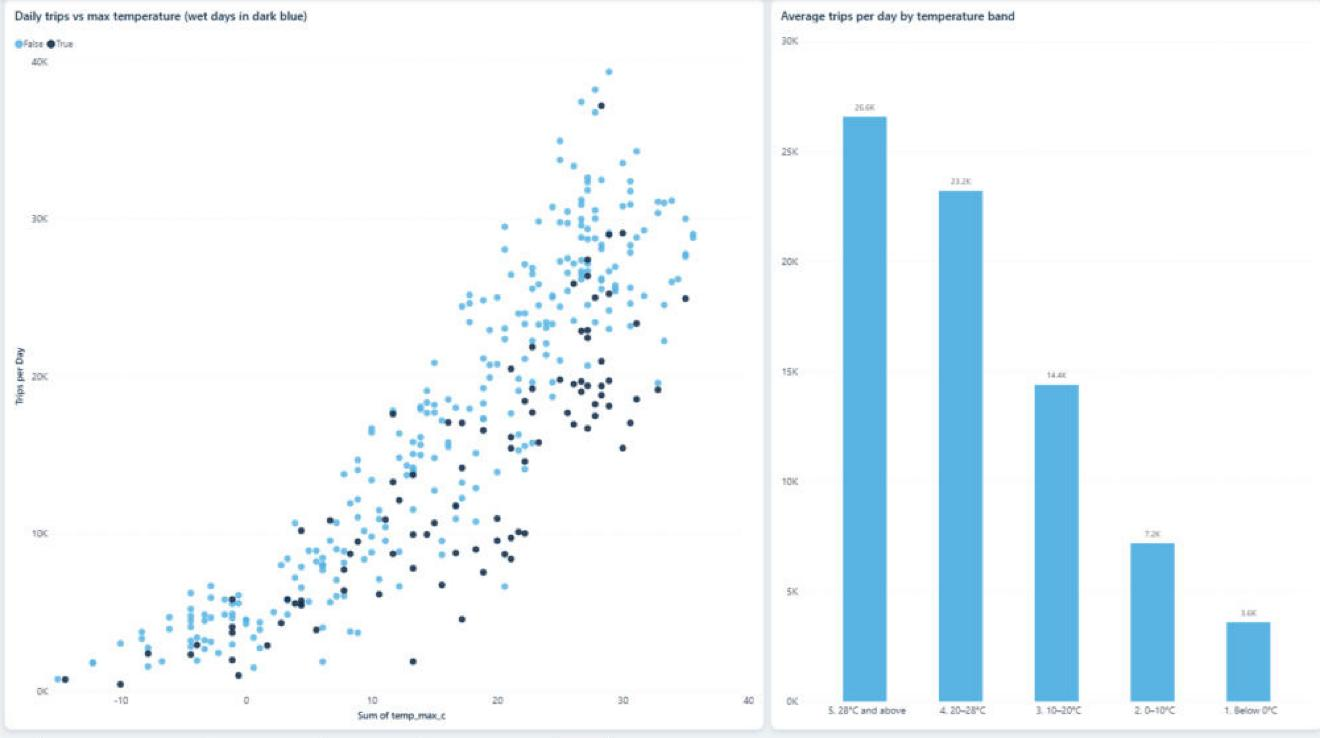

The dashboard page shown, as its layout file describes it:
{"tool":"powerbi","page":{"name":"Weather","canvas":[1920,1080],"ordinal":2},"visuals":[{"type":"scatterChart","title":"Daily trips vs max temperature (wet days in dark blue)","fields":{"Category":["dim_date.date"],"Series":["dim_date.is_wet_day"],"X":["Sum(dim_date.temp_max_c)"],"Y":["_Measures.Trips per Day"]},"box":[10,0,1100,1060],"z":0},{"type":"clusteredColumnChart","title":"Average trips per day by temperature band","fields":{"Category":["dim_date.temp_band"],"Y":["_Measures.Trips per Day"]},"box":[1120,0,800,1060],"z":1}]}

Visuals, with their boxes in screenshot pixels (x1, y1, x2, y2), scaled from the page's 1920x1080 canvas onto the 1320x738 screenshot:
"Daily trips vs max temperature (wet days in dark blue)" scatterChart: {"left": 7, "top": 0, "right": 763, "bottom": 724}
"Average trips per day by temperature band" clusteredColumnChart: {"left": 770, "top": 0, "right": 1319, "bottom": 724}
